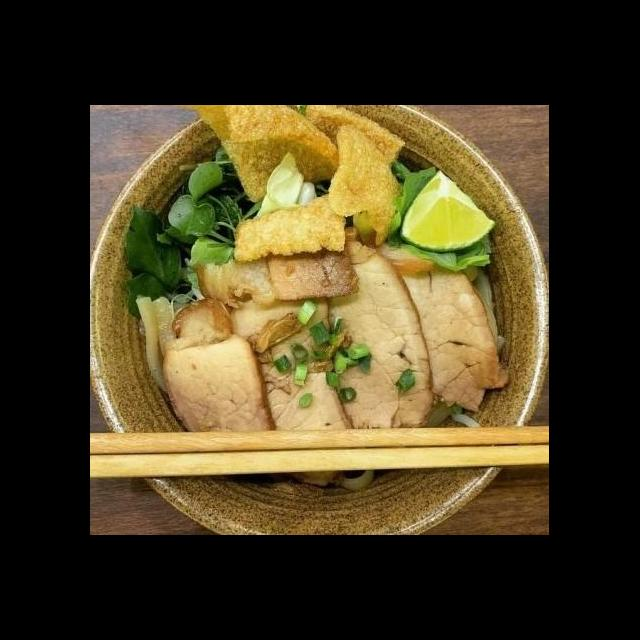banh da: (182, 106, 346, 208), (326, 122, 408, 249), (232, 189, 352, 265), (302, 106, 408, 182)
mi: (132, 292, 188, 396)
mi quang: (90, 138, 550, 535)
thit heo: (364, 227, 514, 417), (320, 223, 436, 434), (226, 288, 360, 437), (158, 295, 282, 439), (192, 243, 362, 313)
